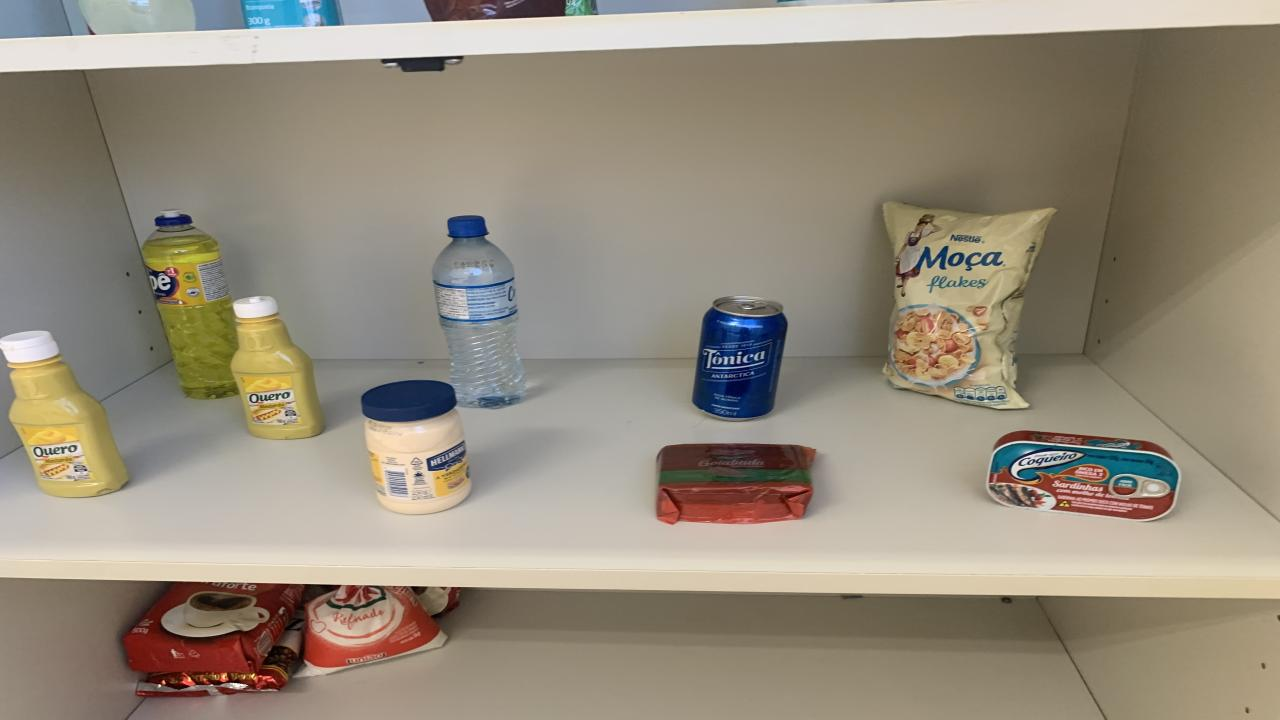Cleaner-Cleanup_Items: (240, 0, 342, 28)
Coffee-Pantry_Items: (425, 0, 565, 22)
Detergent-Cleanup_Items: (142, 210, 238, 399)
Flakes-Snacks: (882, 202, 1055, 409)
Guava-Snacks: (658, 444, 815, 523)
Mayonnaise-Pantry_Items: (362, 381, 470, 514)
Mustard-Pantry_Items: (0, 330, 128, 497), (230, 294, 325, 439)
Soda-Drinks: (78, 0, 195, 34)
Tonic-Drinks: (692, 296, 788, 420)
Tuna_Can-Pantry_Items: (988, 431, 1180, 521)
Water_Bottle-Drinks: (432, 234, 525, 409)
